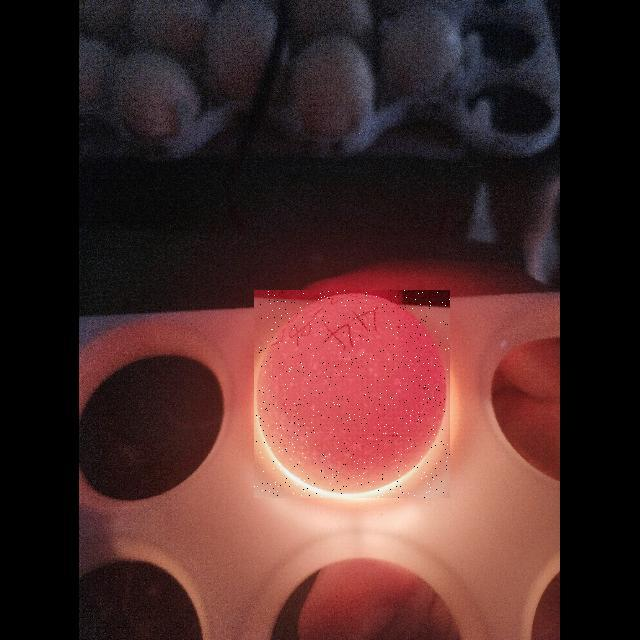Infertile: (254, 290, 450, 498)
